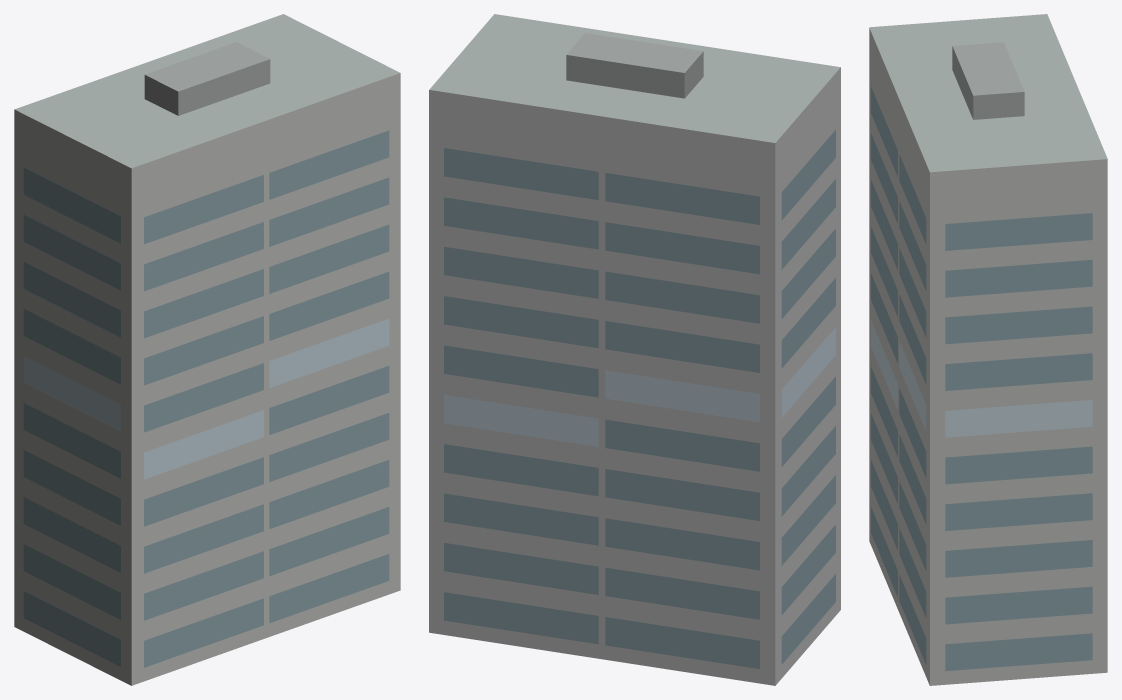
File: apt-a10023829.glb
3 views of the same model, side by side, from view 1: azimuth 30°, elevation 25°; view 2: azimuth 150°, elevation 25°; view 3: azimuth 270°, elevation 25° (orthographic). The views are drawn at different scales.
Visible parts, largest first — view 1: apt-a10023829; view 2: apt-a10023829; view 3: apt-a10023829.
Part boxes in pixels (x1=…): apt-a10023829: x1=14, y1=14, x2=400, y2=685; apt-a10023829: x1=429, y1=14, x2=840, y2=685; apt-a10023829: x1=869, y1=14, x2=1107, y2=685.
Bounding box in the file's own units: 20.21 × 32 × 12.87.
